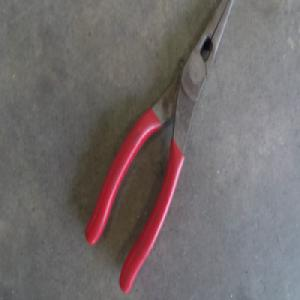Pliers: (84, 0, 234, 293)
